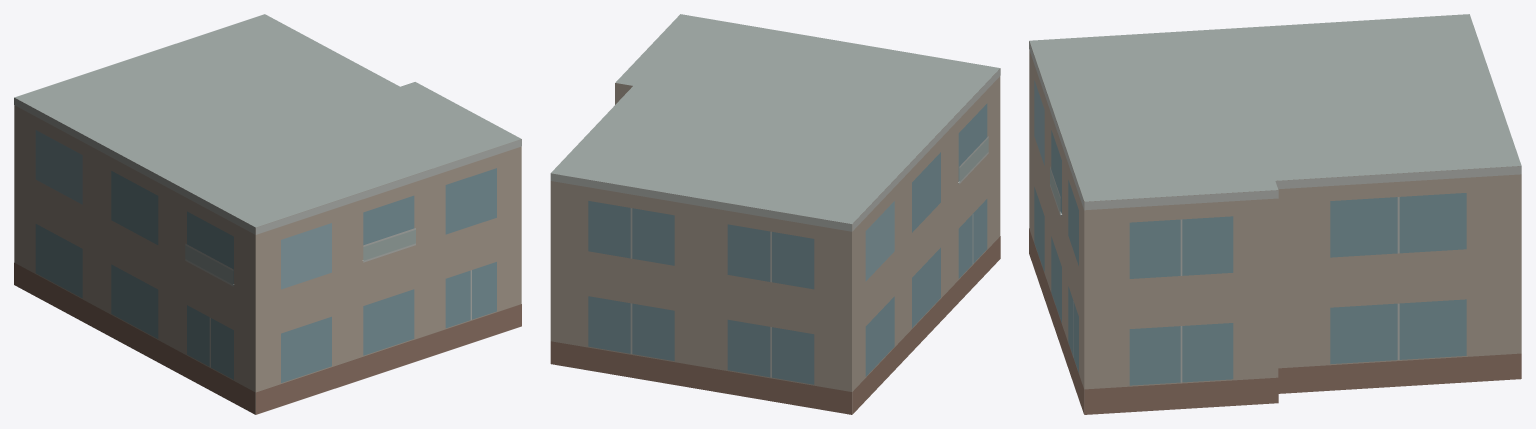
Rendered from survey-upis-32807605.glb.
3 views of the same model, side by side, from view 1: azimuth 30°, elevation 25°; view 2: azimuth 150°, elevation 25°; view 3: azimuth 270°, elevation 25° (orthographic). The views are drawn at different scales.
Visible parts, largest first — view 1: survey-upis-32807605.tmp; view 2: survey-upis-32807605.tmp; view 3: survey-upis-32807605.tmp.
Part boxes in pixels (x1=…): survey-upis-32807605.tmp: x1=14, y1=14, x2=521, y2=414; survey-upis-32807605.tmp: x1=550, y1=14, x2=1000, y2=414; survey-upis-32807605.tmp: x1=1029, y1=14, x2=1521, y2=414.
Bounding box in the file's own units: 11.53 × 6.1 × 12.78.
